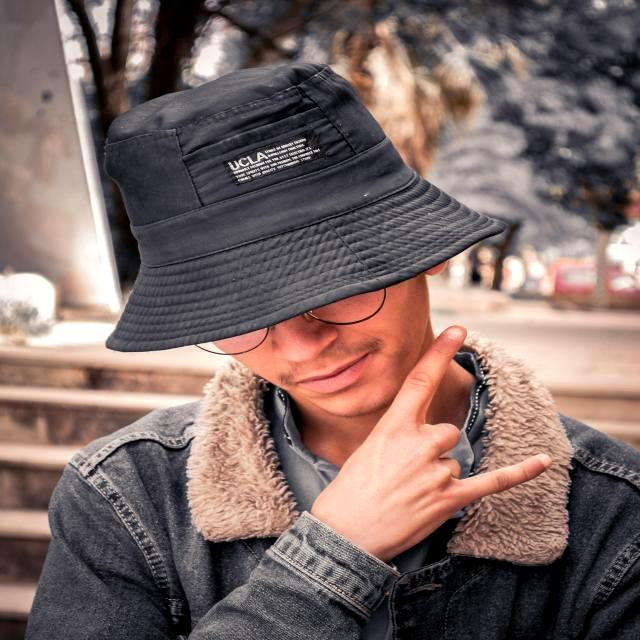no_hard_hat: (105, 64, 505, 351)
person: (42, 65, 638, 640)
